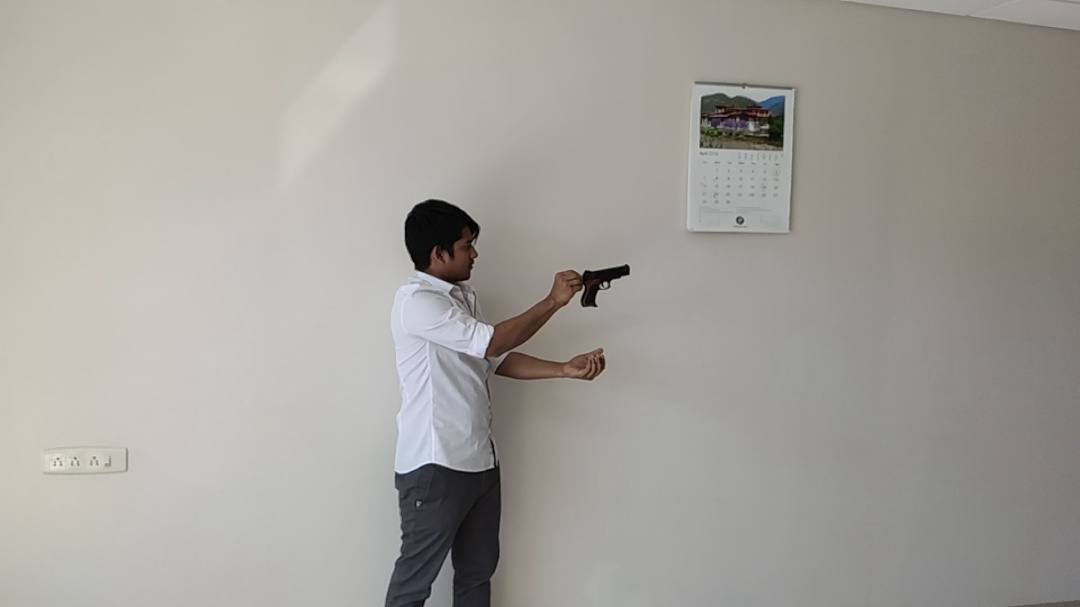gun: (236, 132, 805, 484)
